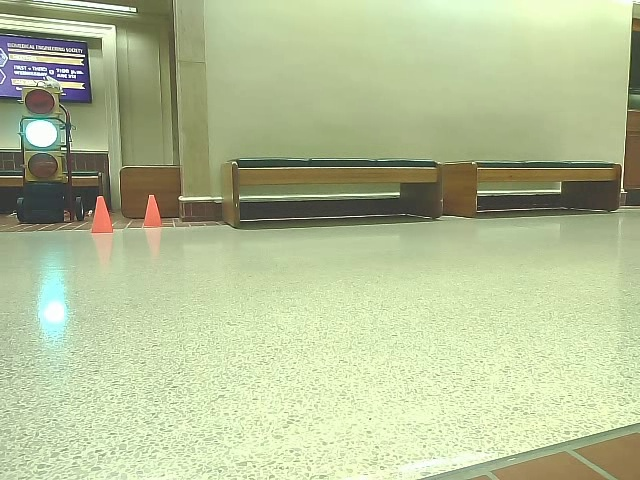green: (21, 87, 65, 181)
